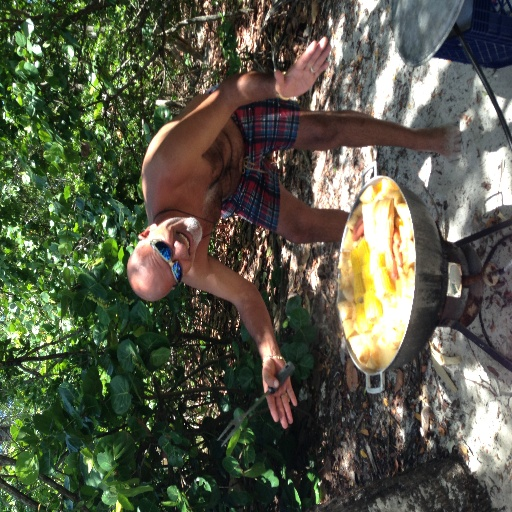hand: (274, 31, 333, 91), (259, 352, 299, 432)
